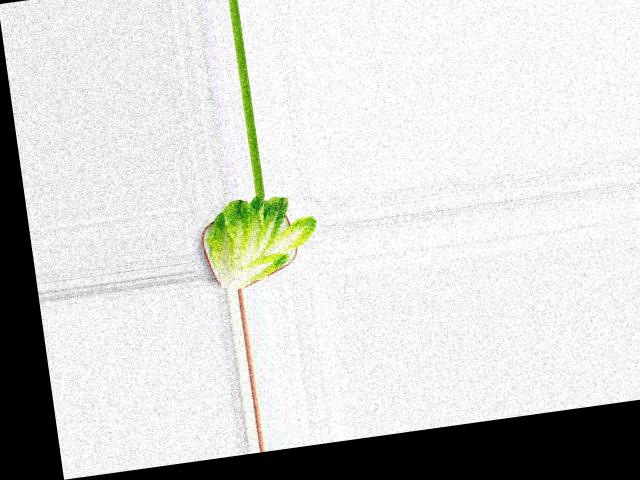lettuce: (195, 186, 325, 290)
